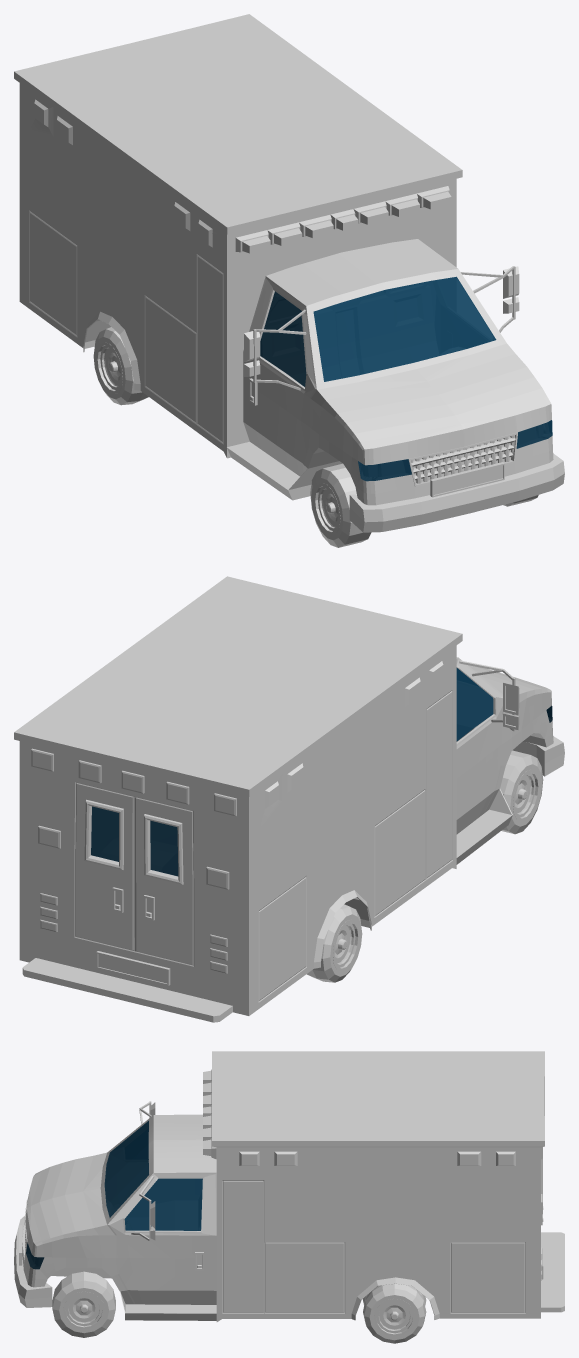
Rendered from ambulance_seperate_wheels.fbx.
3 views of the same model, one above another, from view 1: azimuth 30°, elevation 25°; view 2: azimuth 150°, elevation 25°; view 3: azimuth 270°, elevation 25° (orthographic). The views are drawn at different scales.
Visible parts, largest first — view 1: ambulance, ambulance_glass, ambulance_wheel.003, ambulance_wheel.002; view 2: ambulance, ambulance_glass, ambulance_wheel.003, ambulance_wheel.002; view 3: ambulance, ambulance_glass, ambulance_wheel.001, ambulance_wheel.
Boxes of the visible parts, x1,y1,x2,y2 form: ambulance: (14, 14, 564, 532); ambulance_glass: (260, 276, 552, 481); ambulance_wheel.003: (310, 463, 371, 547); ambulance_wheel.002: (93, 327, 148, 405); ambulance: (14, 576, 564, 1022); ambulance_glass: (91, 668, 552, 876); ambulance_wheel.003: (500, 750, 543, 834); ambulance_wheel.002: (306, 904, 362, 982); ambulance: (14, 1051, 564, 1321); ambulance_glass: (26, 1121, 202, 1269); ambulance_wheel.001: (52, 1271, 115, 1337); ambulance_wheel: (363, 1283, 426, 1343).
Size of the model in its own units: 452 by 413 by 1006.
